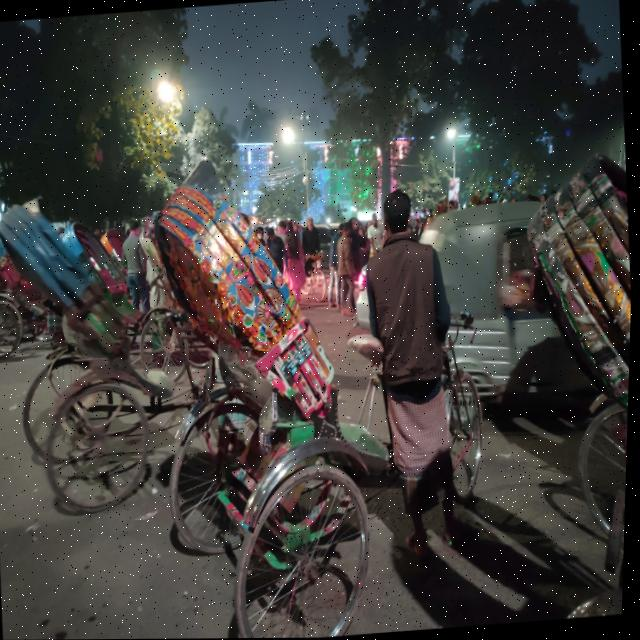rikshaw: (146, 134, 503, 639), (0, 210, 268, 508)
